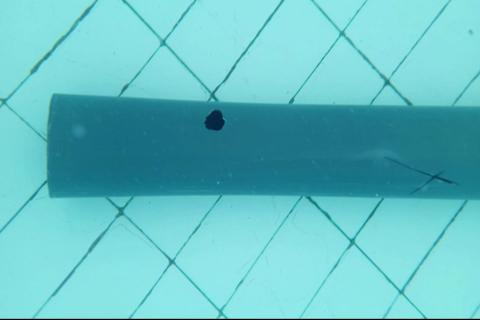kebocoran: (203, 108, 225, 132)
keretakan: (384, 155, 462, 195)
